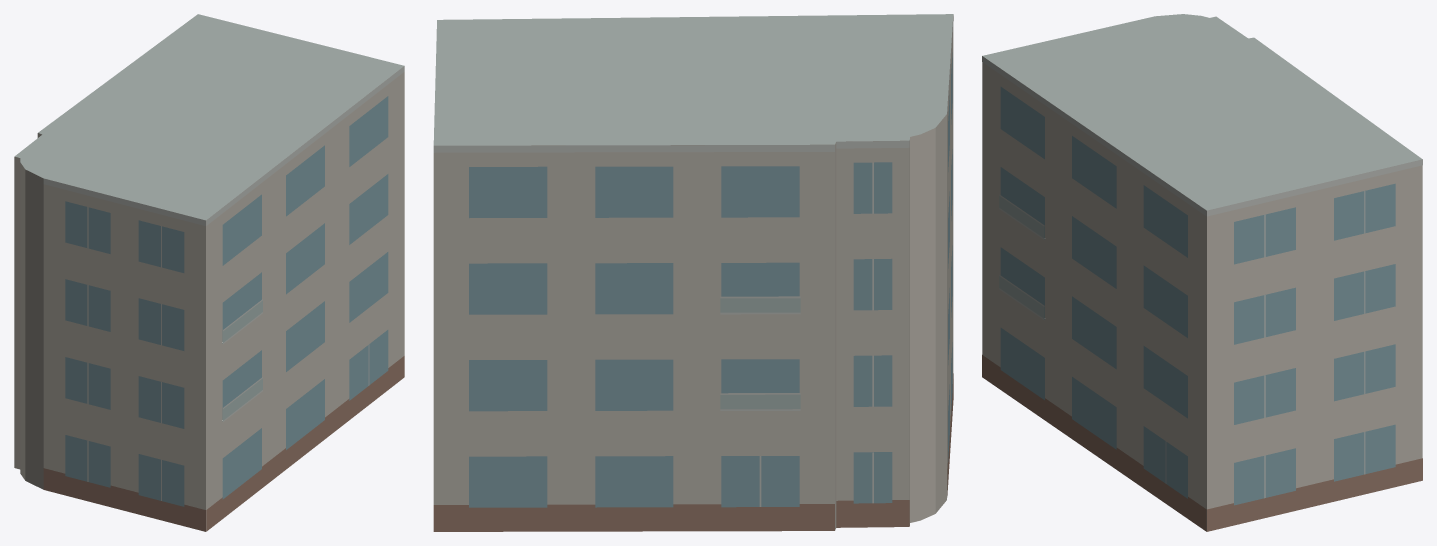
Rendered from survey-upis-32689966.glb.
3 views of the same model, side by side, from view 1: azimuth 30°, elevation 25°; view 2: azimuth 150°, elevation 25°; view 3: azimuth 270°, elevation 25° (orthographic). The views are drawn at different scales.
Parts seen in each view (by area): view 1: survey-upis-32689966.tmp; view 2: survey-upis-32689966.tmp; view 3: survey-upis-32689966.tmp.
Boxes of the visible parts, left/top/right/bottom form: survey-upis-32689966.tmp: left=14, top=14, right=404, bottom=531; survey-upis-32689966.tmp: left=433, top=14, right=953, bottom=531; survey-upis-32689966.tmp: left=982, top=14, right=1422, bottom=531.
Bounding box in the file's own units: 17.33 × 13.2 × 16.42.
